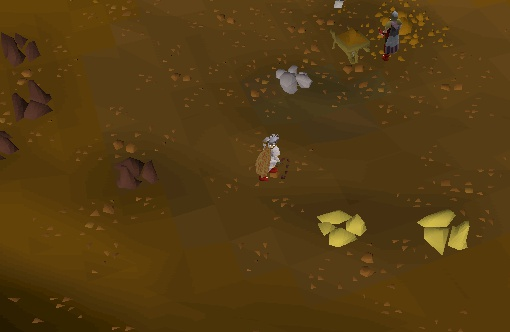gold: (409, 203, 475, 257), (310, 204, 371, 254)
iron: (106, 149, 167, 197)
